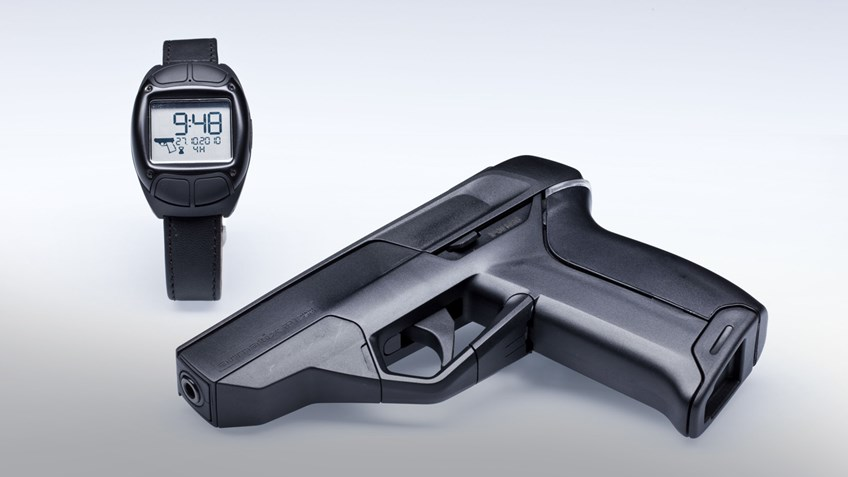gun: (171, 150, 770, 446)
